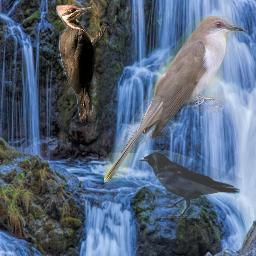Crow: (138, 150, 242, 218)
Cuckoo: (104, 16, 247, 182)
Woodpecker: (56, 5, 108, 123)
